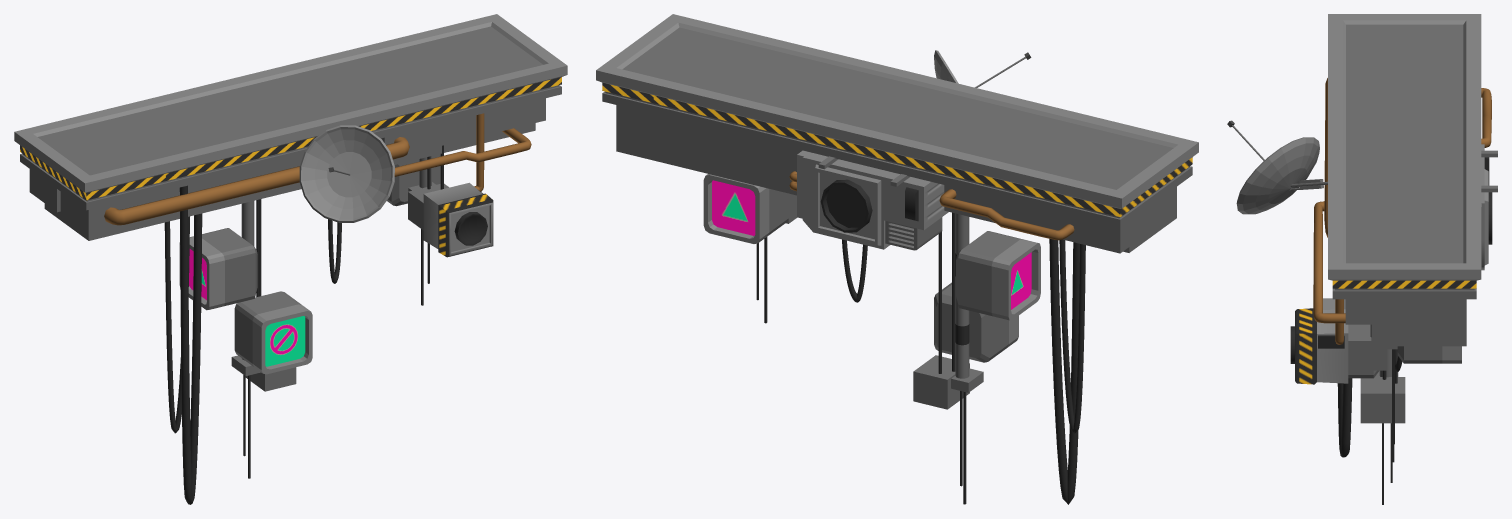
3 renders of one model, left to right at view 1: azimuth 30°, elevation 25°; view 2: azimuth 150°, elevation 25°; view 3: azimuth 270°, elevation 25°, orthographic. The views are drawn at different scales.
Parts seen in each view (by area): view 1: Platform_4x1; view 2: Platform_4x1; view 3: Platform_4x1.
Boxes of the visible parts, x1,y1,x2,y2 form: Platform_4x1: (14, 14, 567, 504); Platform_4x1: (596, 14, 1198, 504); Platform_4x1: (1227, 14, 1497, 504).
Size of the model in its own units: 3.86 by 2.81 by 1.73.
6 materials, 1 textured.
